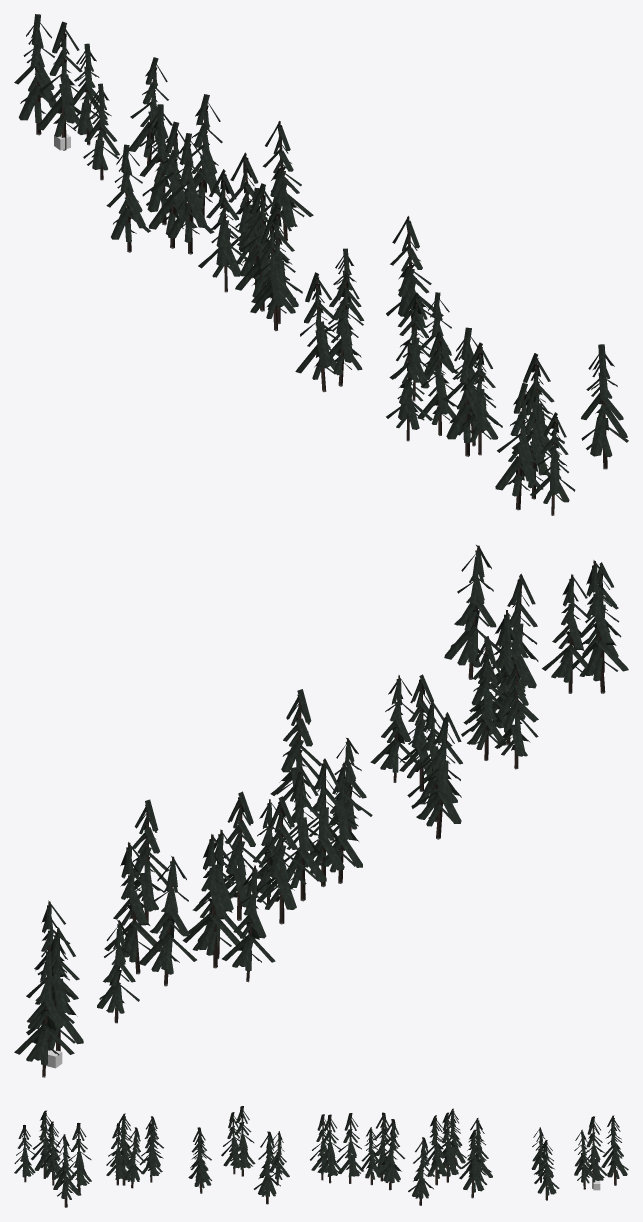
Rendered from tree.fbx.
3 renders of one model, top to bottom at view 1: azimuth 30°, elevation 25°; view 2: azimuth 150°, elevation 25°; view 3: azimuth 270°, elevation 25°, orthographic. The views are drawn at different scales.
Visible parts, largest first — view 1: Plane.029; view 2: Plane.029; view 3: Plane.029.
Part boxes in pixels (x1,y1,x2,y2): Plane.029: (14, 14, 628, 515); Plane.029: (14, 545, 628, 1077); Plane.029: (14, 1106, 628, 1207).
Bounding box in the file's own units: 3281 × 2376 × 17600.
2 materials, 1 textured.
